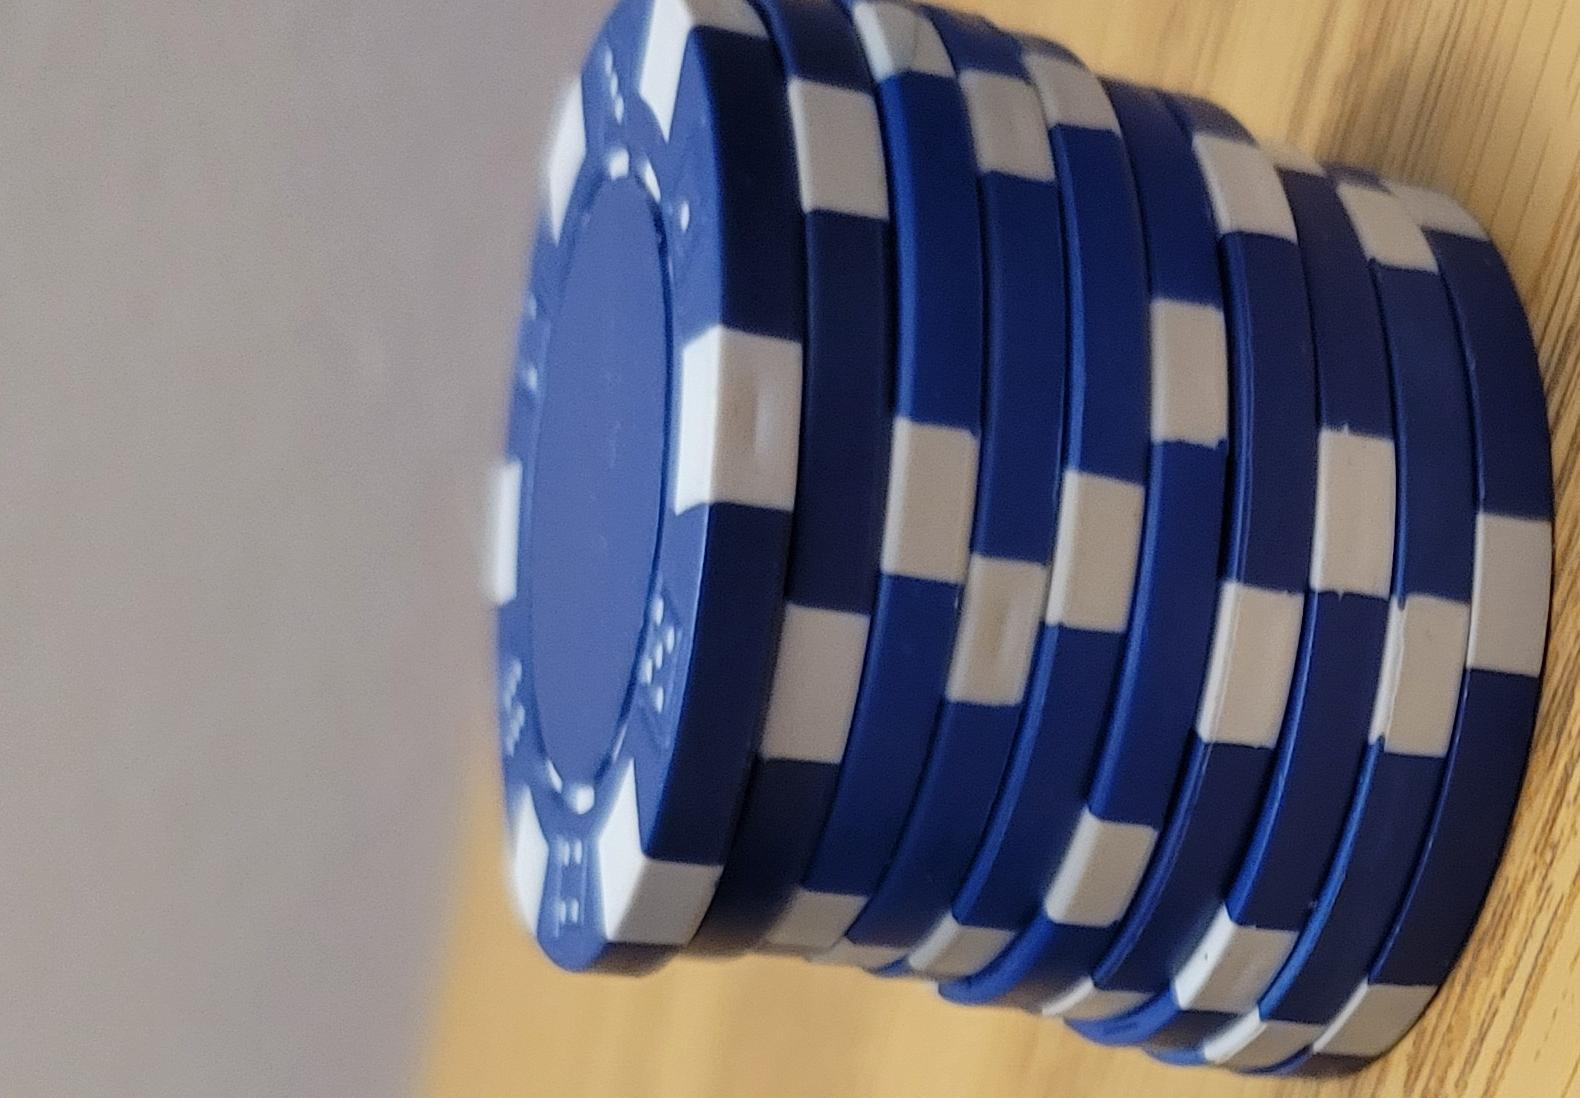Chip: (1, 108, 1059, 1098)
